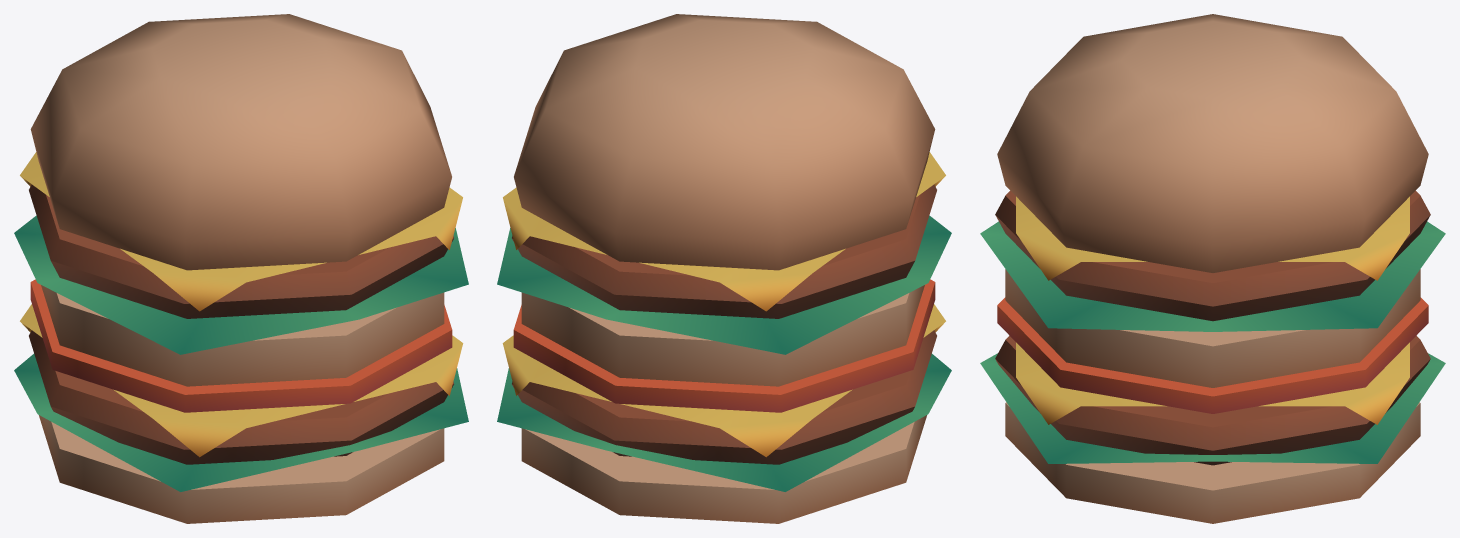
File: burger-double.glb
3 renders of one model, left to right at view 1: azimuth 30°, elevation 25°; view 2: azimuth 150°, elevation 25°; view 3: azimuth 270°, elevation 25°, orthographic.
Parts seen in each view (by area): view 1: bun-top, patty (×2), salad (×2), bun-bottom, bun-middle, cheese (×2), tomato; view 2: bun-top, patty (×2), salad (×2), bun-bottom, bun-middle, cheese (×2), tomato; view 3: bun-top, patty (×2), salad (×2), bun-bottom, bun-middle, tomato, cheese (×2).
Boxes of the visible parts, bbox=[...] form: bun-top: bbox=[30, 14, 451, 270]; patty (×2): bbox=[29, 184, 453, 464]; salad (×2): bbox=[14, 215, 468, 491]; bun-bottom: bbox=[39, 415, 444, 523]; bun-middle: bbox=[41, 285, 444, 386]; cheese (×2): bbox=[20, 152, 463, 457]; tomato: bbox=[30, 279, 452, 412]; bun-top: bbox=[514, 14, 935, 270]; patty (×2): bbox=[512, 184, 936, 464]; salad (×2): bbox=[497, 215, 951, 491]; bun-bottom: bbox=[521, 415, 926, 523]; bun-middle: bbox=[521, 285, 924, 386]; cheese (×2): bbox=[502, 152, 945, 457]; tomato: bbox=[513, 279, 935, 412]; bun-top: bbox=[997, 14, 1428, 272]; patty (×2): bbox=[995, 190, 1430, 465]; salad (×2): bbox=[980, 221, 1445, 463]; bun-bottom: bbox=[1005, 402, 1420, 523]; bun-middle: bbox=[1005, 269, 1420, 387]; tomato: bbox=[997, 297, 1428, 413]; cheese (×2): bbox=[1016, 196, 1409, 424].
Size of the model in its own units: 0.4041 by 0.36 by 0.4041.
